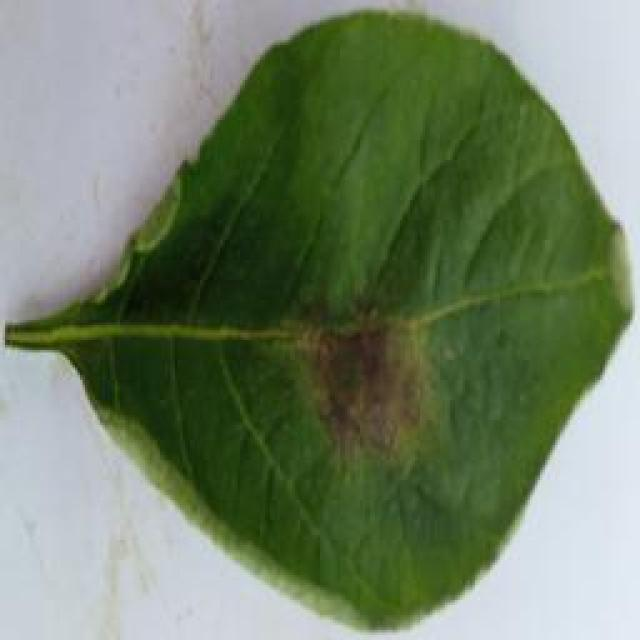Potato_Late_Blight: (5, 15, 618, 630)
